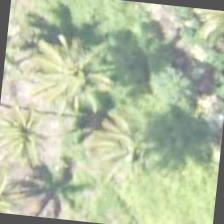Kelapa_Sawit: (32, 22, 132, 121), (84, 95, 183, 194)
